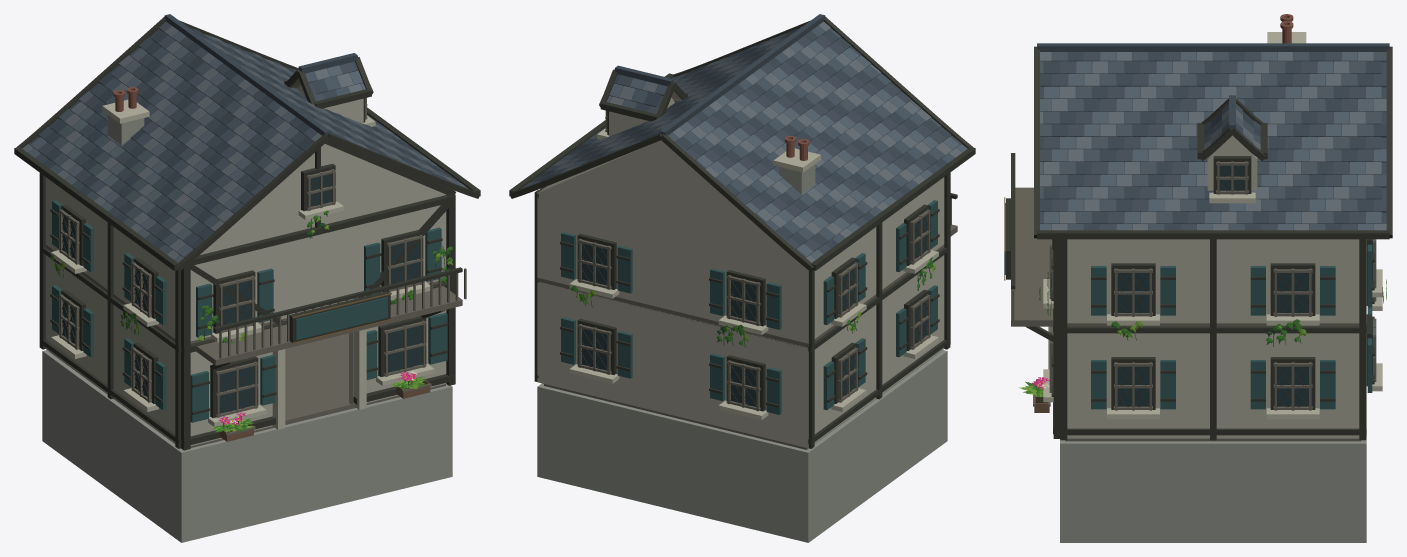
Rendered from village_meadowinn.glb.
3 views of the same model, side by side, from view 1: azimuth 30°, elevation 25°; view 2: azimuth 150°, elevation 25°; view 3: azimuth 270°, elevation 25° (orthographic). The views are drawn at different scales.
Parts seen in each view (by area): view 1: village_meadowinn; view 2: village_meadowinn; view 3: village_meadowinn.
Part boxes in pixels (bbox=[...]): village_meadowinn: bbox=[14, 14, 480, 542]; village_meadowinn: bbox=[509, 14, 975, 542]; village_meadowinn: bbox=[1004, 14, 1392, 542].
Bounding box in the file's own units: 10.18 × 12.24 × 10.13.
